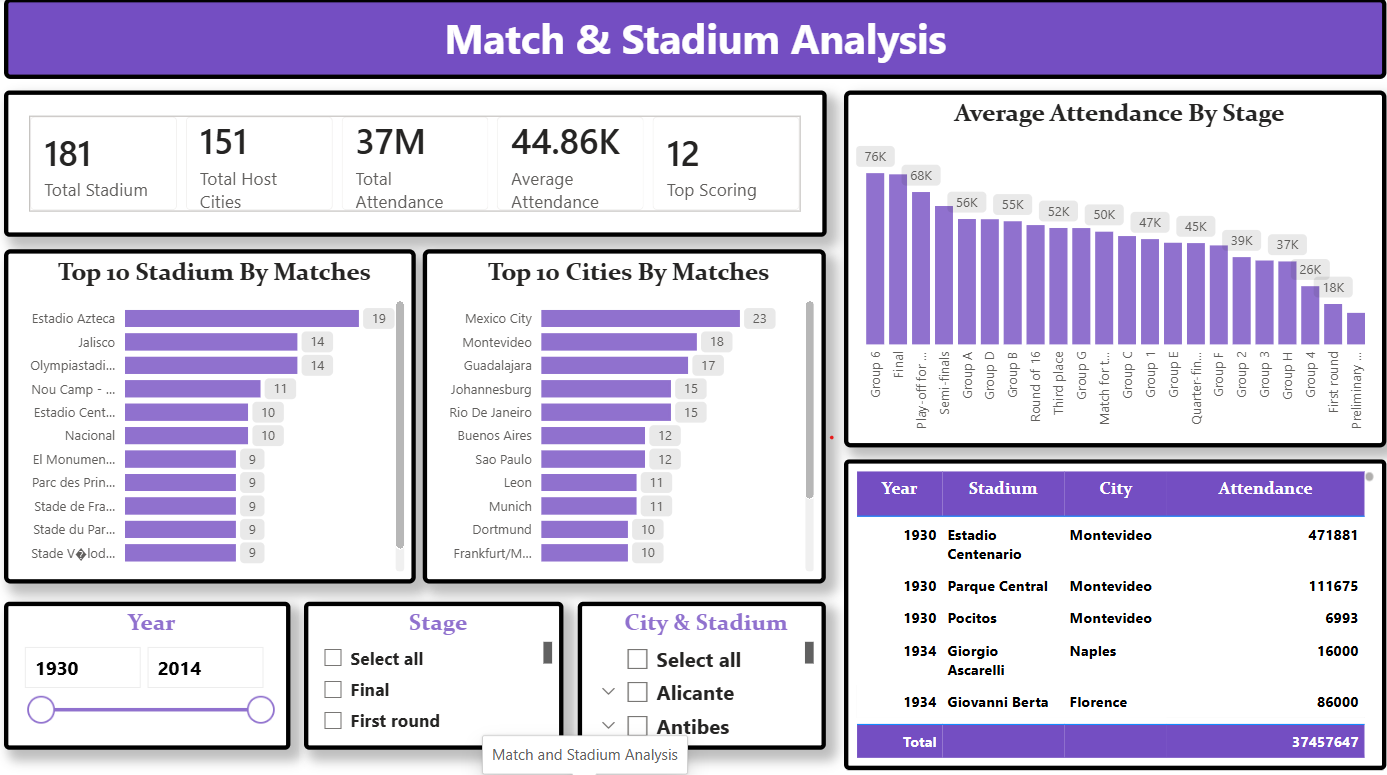

This screenshot's page, from the dashboard's own definition file:
{"tool":"powerbi","page":{"name":"Match and Stadium Analysis","canvas":[1280,720],"ordinal":3},"visuals":[{"type":"textbox","title":"Team Performace Analysis","box":[4.1,0,1270.7,74.1],"z":0},{"type":"cardVisual","fields":{"Data":["Count(WorldCupMatches1.Stadium)","Count(WorldCupMatches1.City)","Sum(WorldCupMatches1.Attendance)","WorldCupMatches1.Average Attendance","Max(WorldCupMatches1.Total Goals)"]},"box":[4.1,85.1,756.1,134.5],"z":1000},{"type":"barChart","title":"Top 10 Stadium By Matches","fields":{"Y":["CountNonNull(WorldCupMatches1.MatchID)"],"Category":["WorldCupMatches1.Stadium"]},"box":[4.1,230.5,378.7,307.4],"z":2000},{"type":"barChart","title":"Top 10 Cities By Matches","fields":{"Y":["CountNonNull(WorldCupMatches1.MatchID)"],"Category":["WorldCupMatches1.City"]},"box":[389.7,230.5,370.5,307.4],"z":3000},{"type":"clusteredColumnChart","title":"Average Attendance By Stage","fields":{"Y":["WorldCupMatches1.Average Attendance"],"Category":["WorldCupMatches1.Stage"]},"box":[776.7,85.1,498.1,328],"z":4000},{"type":"tableEx","fields":{"Values":["WorldCupMatches1.Year","WorldCupMatches1.Stadium","WorldCupMatches1.City","Sum(WorldCupMatches1.Attendance)"]},"box":[776.7,424,498.1,285.4],"z":5000},{"type":"slicer","title":"Year","fields":{"Values":["WorldCupMatches1.Year"]},"box":[4.1,554.4,263.5,135.8],"z":6000},{"type":"slicer","title":"Stage","fields":{"Values":["WorldCupMatches1.Stage"]},"box":[279.9,554.4,238.8,135.8],"z":7000},{"type":"slicer","title":"City & Stadium","fields":{"Values":["WorldCupMatches1.City","WorldCupMatches1.Stadium"]},"box":[532.4,554.4,227.8,135.8],"z":8000}]}

Visuals, with their boxes on the page's 1280x720 design canvas (x1, y1, x2, y2). These are canvas units, not pixel positions in the 1387x775 screenshot, which may show the page scaled, cropped or inside an application window:
"Team Performace Analysis" textbox: box=[4, 0, 1275, 74]
cardVisual - Count(WorldCupMatches1.Stadium) x Count(WorldCupMatches1.City): box=[4, 85, 760, 220]
"Top 10 Stadium By Matches" barChart: box=[4, 230, 383, 538]
"Top 10 Cities By Matches" barChart: box=[390, 230, 760, 538]
"Average Attendance By Stage" clusteredColumnChart: box=[777, 85, 1275, 413]
tableEx - WorldCupMatches1.Year x WorldCupMatches1.Stadium: box=[777, 424, 1275, 709]
"Year" slicer: box=[4, 554, 268, 690]
"Stage" slicer: box=[280, 554, 519, 690]
"City & Stadium" slicer: box=[532, 554, 760, 690]
